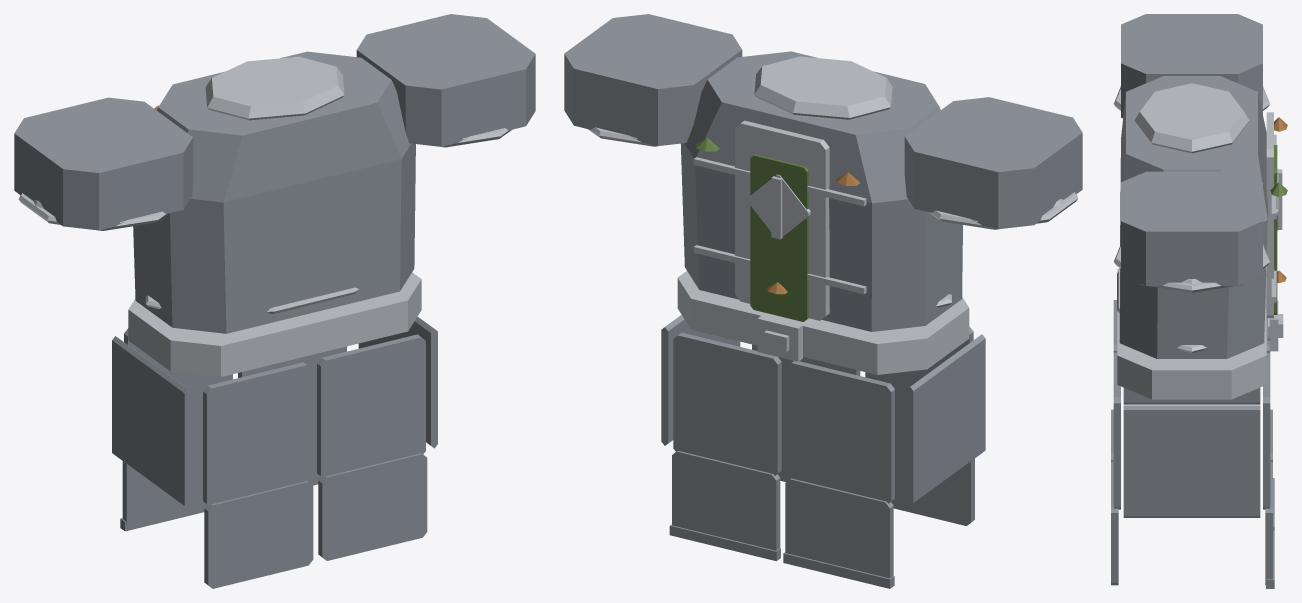
Rendered from armor_healer_s2.fbx.
3 renders of one model, left to right at view 1: azimuth 30°, elevation 25°; view 2: azimuth 150°, elevation 25°; view 3: azimuth 270°, elevation 25°, orthographic. The views are drawn at different scales.
Parts seen in each view (by area): view 1: Chest_Body, Tasset_L_Body, Tasset_R_Body, Chest_Trim, Shoulder_L_Body, Shoulder_R_Body, Shoulder_L_Trim, Chest_Trim_Ep; view 2: Tasset_L_Body, Chest_Body, Chest_Trim, Tasset_R_Body, Shoulder_L_Body, Shoulder_R_Body, Chest_Attach, Shoulder_L_Trim; view 3: Tasset_R_Body, Chest_Body, Shoulder_R_Body, Chest_Trim, Shoulder_L_Body, Tasset_L_Body, Shoulder_R_Trim, Chest_Attach, Chest_Trim_Ep.
Boxes of the visible parts, x1=… form: Chest_Body: x1=133, y1=51, x2=415, y2=333; Tasset_L_Body: x1=112, y1=328, x2=313, y2=588; Tasset_R_Body: x1=238, y1=316, x2=437, y2=560; Chest_Trim: x1=128, y1=56, x2=421, y2=376; Shoulder_L_Body: x1=14, y1=97, x2=193, y2=230; Shoulder_R_Body: x1=356, y1=14, x2=535, y2=146; Shoulder_L_Trim: x1=18, y1=193, x2=169, y2=230; Chest_Trim_Ep: x1=145, y1=287, x2=358, y2=313; Tasset_L_Body: x1=783, y1=326, x2=985, y2=588; Chest_Body: x1=681, y1=51, x2=962, y2=331; Chest_Trim: x1=677, y1=56, x2=969, y2=374; Tasset_R_Body: x1=661, y1=315, x2=860, y2=561; Shoulder_L_Body: x1=904, y1=97, x2=1082, y2=229; Shoulder_R_Body: x1=564, y1=14, x2=742, y2=145; Chest_Attach: x1=695, y1=138, x2=808, y2=321; Shoulder_L_Trim: x1=928, y1=192, x2=1078, y2=229; Tasset_R_Body: x1=1111, y1=352, x2=1274, y2=588; Chest_Body: x1=1119, y1=76, x2=1267, y2=358; Shoulder_R_Body: x1=1121, y1=171, x2=1262, y2=285; Chest_Trim: x1=1117, y1=83, x2=1283, y2=399; Shoulder_L_Body: x1=1121, y1=14, x2=1262, y2=118; Tasset_L_Body: x1=1111, y1=300, x2=1274, y2=530; Shoulder_R_Trim: x1=1114, y1=243, x2=1269, y2=292; Chest_Attach: x1=1270, y1=145, x2=1287, y2=314; Chest_Trim_Ep: x1=1117, y1=270, x2=1266, y2=352.
Size of the model in its own units: 428 by 378 by 142.
